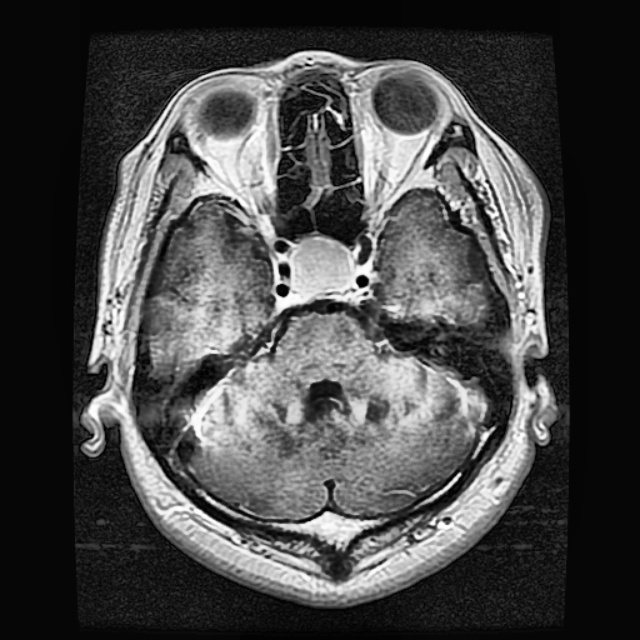Pituitary: (290, 237, 357, 293)
